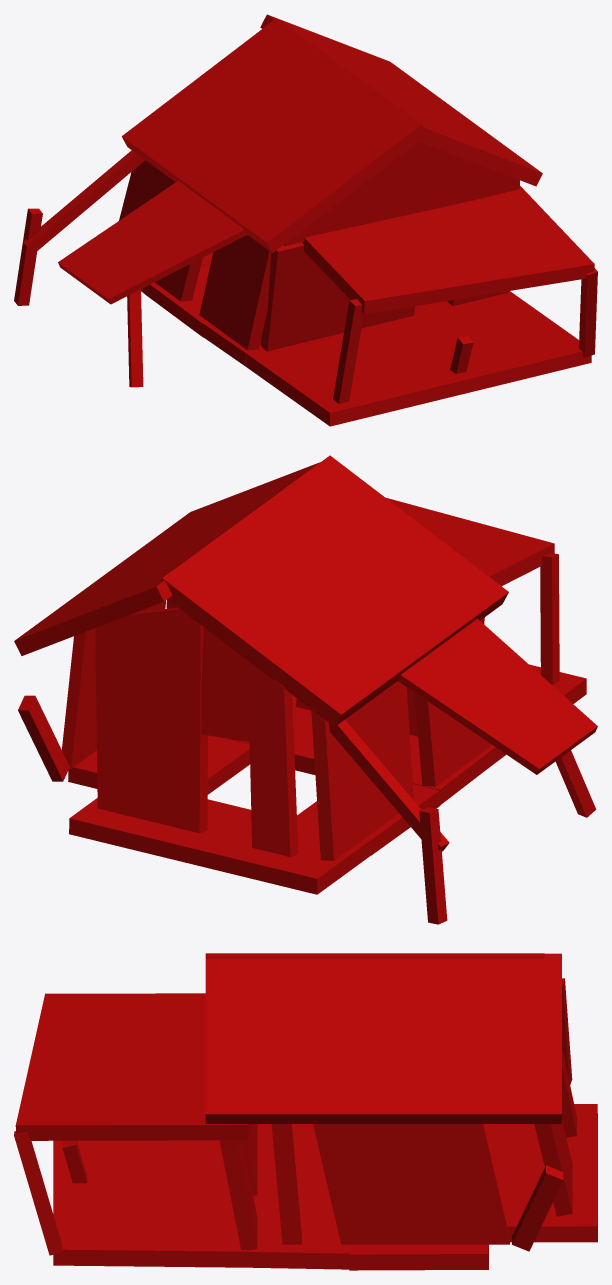
File: SM_Bld_Shack_Pirate_01_Collision.gltf
The picture shows the model from 3 angles, top to bottom: view 1: azimuth 30°, elevation 25°; view 2: azimuth 150°, elevation 25°; view 3: azimuth 270°, elevation 25°; orthographic projection. The views are drawn at different scales.
Parts seen in each view (by area): view 1: SM_Bld_Shack_Pirate_01_Collision; view 2: SM_Bld_Shack_Pirate_01_Collision; view 3: SM_Bld_Shack_Pirate_01_Collision.
Part boxes in pixels (x1,y1,x2,y2): SM_Bld_Shack_Pirate_01_Collision: (14, 14, 597, 426); SM_Bld_Shack_Pirate_01_Collision: (14, 455, 597, 924); SM_Bld_Shack_Pirate_01_Collision: (14, 953, 597, 1270).
Size of the model in its own units: 9.21 by 5.19 by 10.14.
